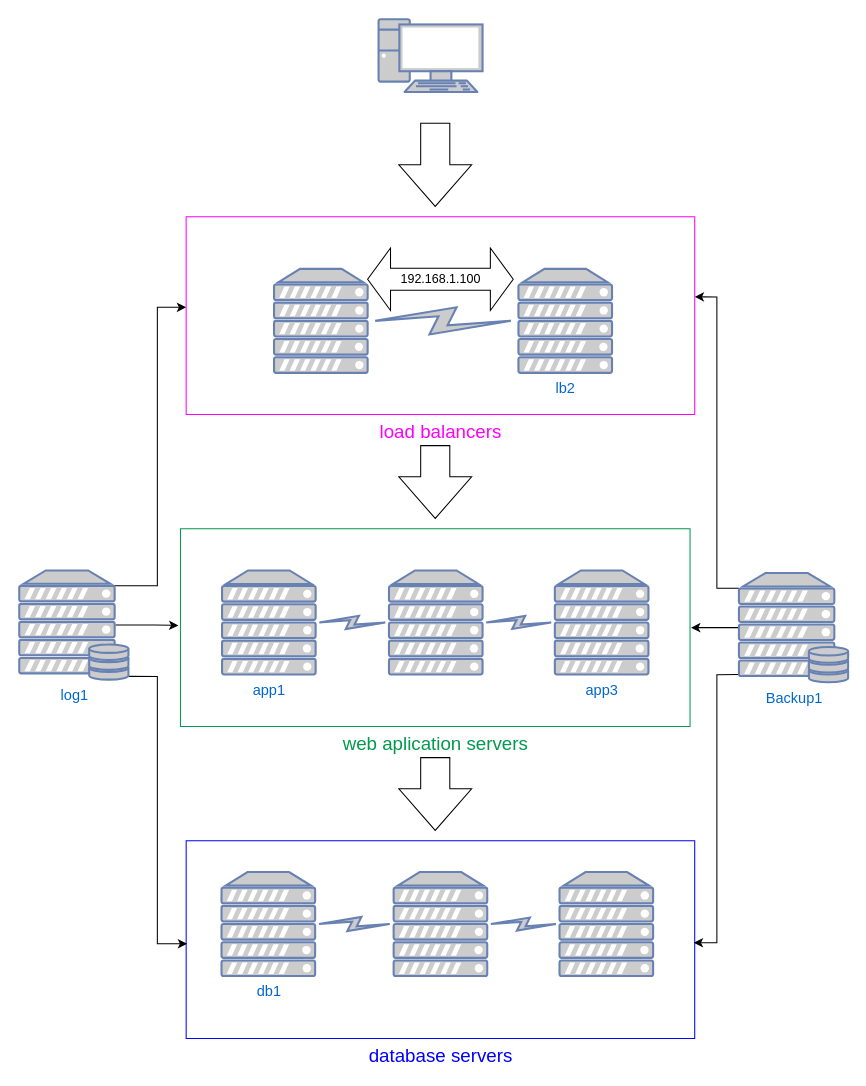
The diagram is 866 pixels wide and 1086 high, and some of its shapes have lost their labels. Here are the shapes that lost their labels. From the top down, the centre of each, then its label:
(x=430, y=55): client
(x=320, y=320): lb1
(x=435, y=622): app2
(x=440, y=923): db2
(x=606, y=923): db3
